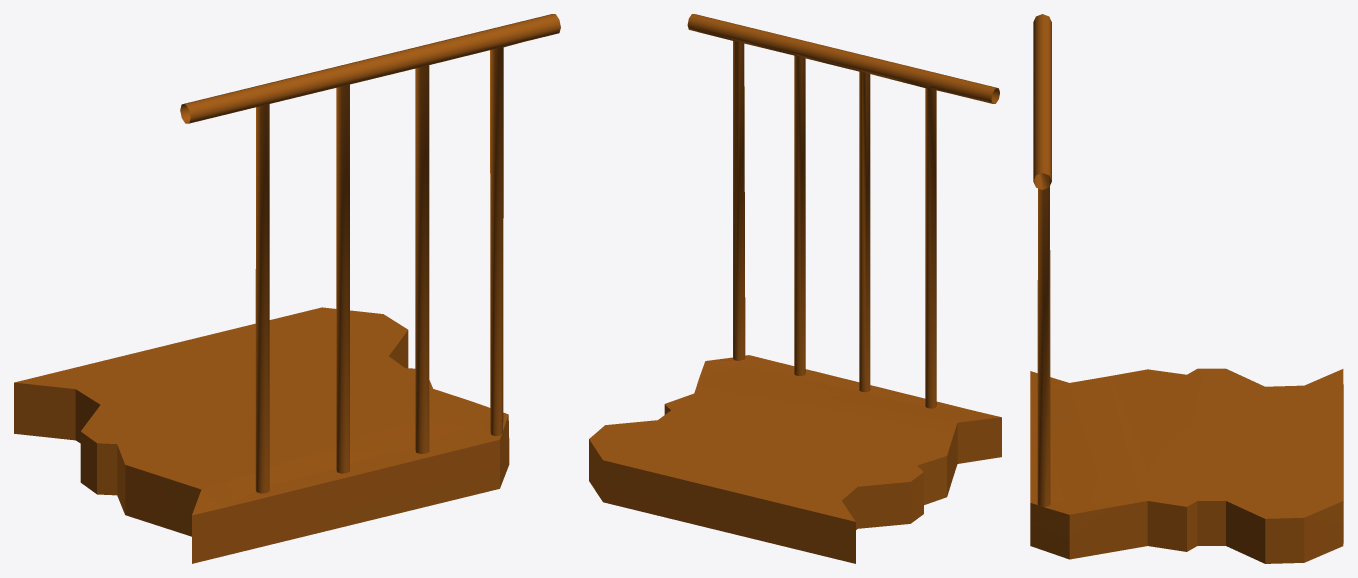
The model's file is balconCentro.FBX.
The picture shows the model from 3 angles, left to right: view 1: azimuth 30°, elevation 25°; view 2: azimuth 150°, elevation 25°; view 3: azimuth 270°, elevation 25°; orthographic projection. The views are drawn at different scales.
Visible parts, largest first — view 1: Terraza2; view 2: Terraza2; view 3: Terraza2.
Boxes of the visible parts, bbox=[...] form: Terraza2: bbox=[14, 14, 560, 563]; Terraza2: bbox=[589, 14, 1001, 563]; Terraza2: bbox=[1030, 14, 1343, 563].
Size of the model in its own units: 120 by 141 by 100.
